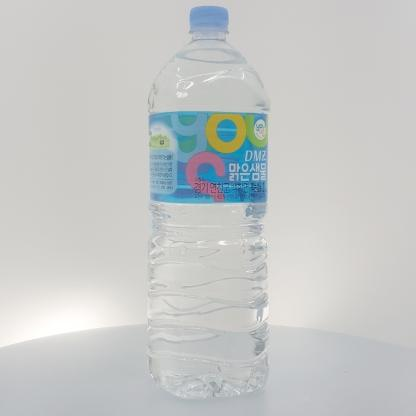--------1-5L: (147, 7, 269, 400)
